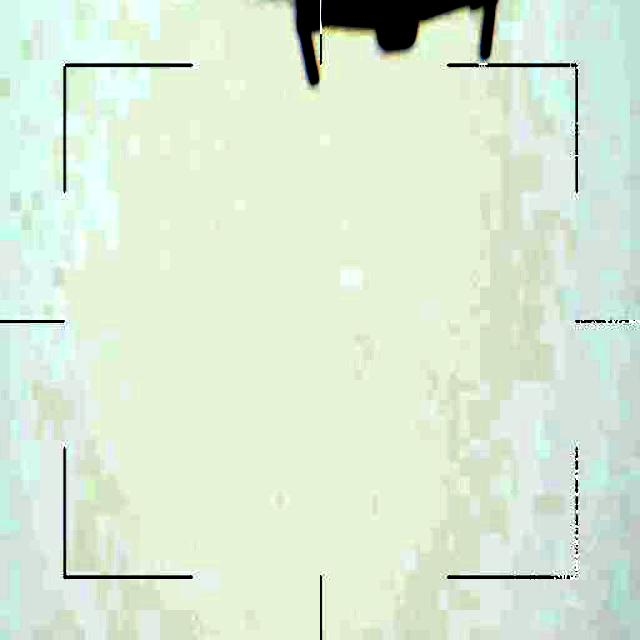bird: (241, 0, 535, 88)
